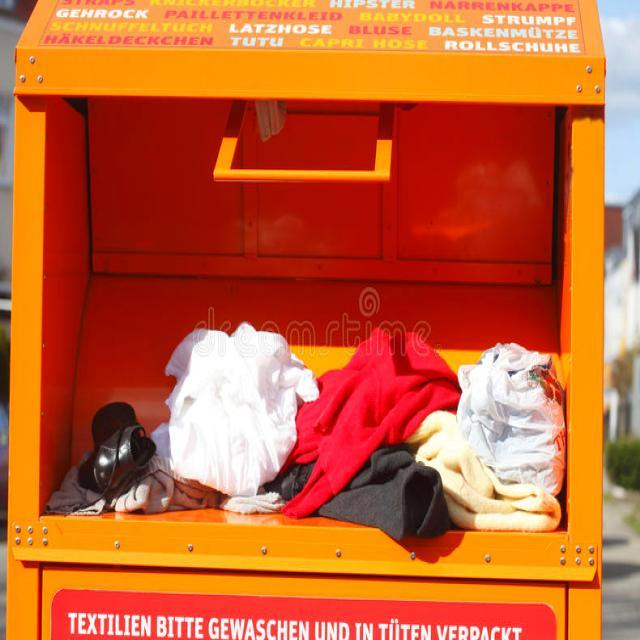clothes: (128, 320, 550, 530)
